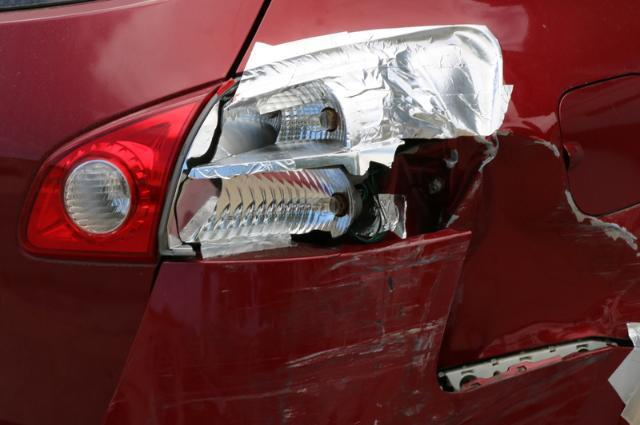Bumper: (87, 238, 640, 425)
Fender: (423, 123, 640, 378)
Light: (168, 19, 512, 260)
